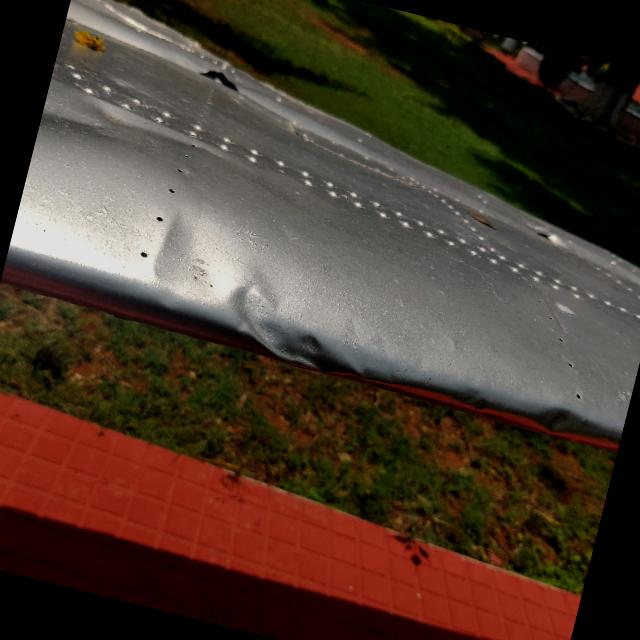dent: (210, 260, 392, 406), (35, 73, 244, 188), (518, 384, 593, 458)
